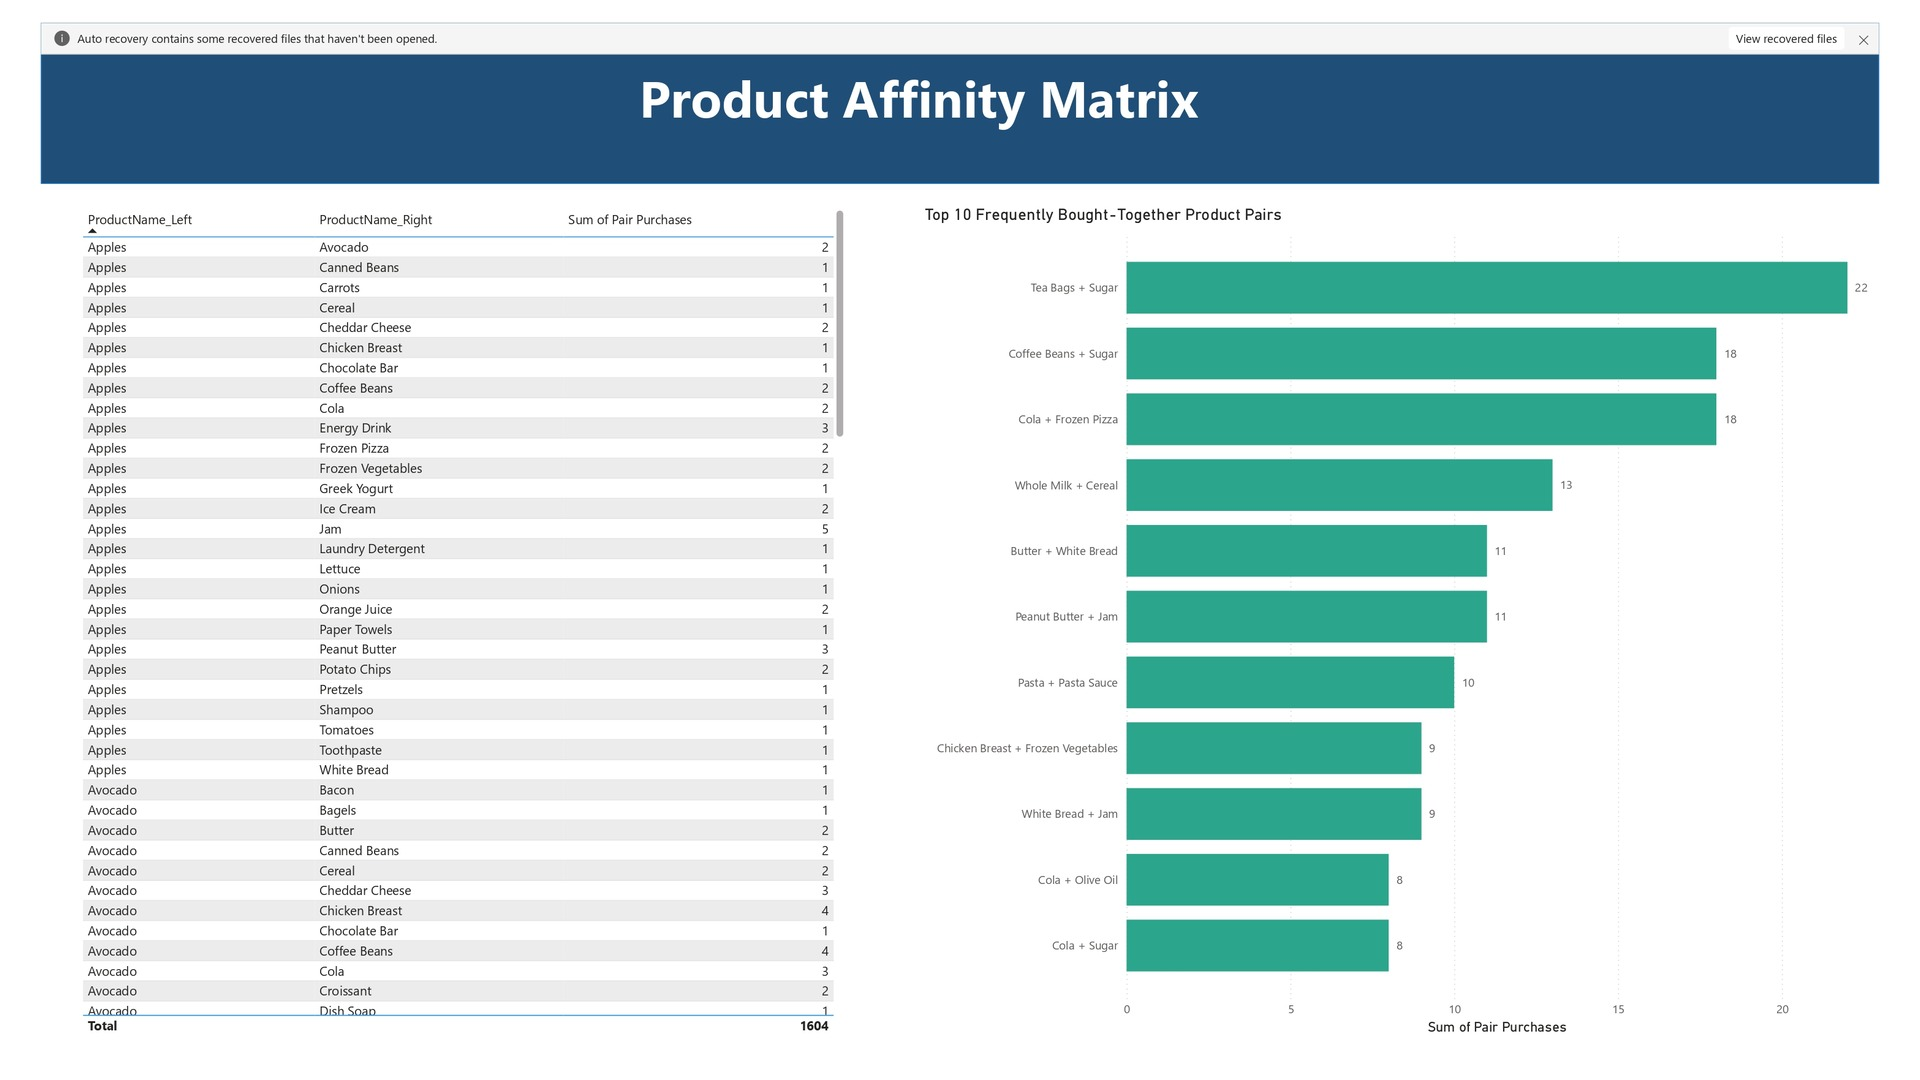

What the dashboard file says about the page in this screenshot:
{"tool":"powerbi","page":{"name":"Product Affinity","canvas":[1920,1080],"ordinal":4},"visuals":[{"type":"shape","box":[0,0,1920,168],"z":0},{"type":"clusteredBarChart","title":"Top 10 Frequently Bought-Together Product Pairs","fields":{"Category":["Product Affinity.Product Pair"],"Y":["Sum(Product Affinity.Pair Purchases)"]},"box":[918,190,1002,872],"z":3000},{"type":"tableEx","fields":{"Values":["Product Affinity.ProductName_Left","Product Affinity.ProductName_Right","Sum(Product Affinity.Pair Purchases)"]},"box":[38,190,806,872],"z":4000},{"type":"textbox","box":[176,36,1482,96],"z":4001}]}

Visuals, with their boxes on the page's 1920x1080 design canvas (x1, y1, x2, y2). These are canvas units, not pixel positions in the 1920x1080 screenshot, which may show the page scaled, cropped or inside an application window:
shape: [left=0, top=0, right=1920, bottom=168]
"Top 10 Frequently Bought-Together Product Pairs" clusteredBarChart: [left=918, top=190, right=1920, bottom=1062]
tableEx - Product Affinity.ProductName_Left x Product Affinity.ProductName_Right: [left=38, top=190, right=844, bottom=1062]
textbox: [left=176, top=36, right=1658, bottom=132]
